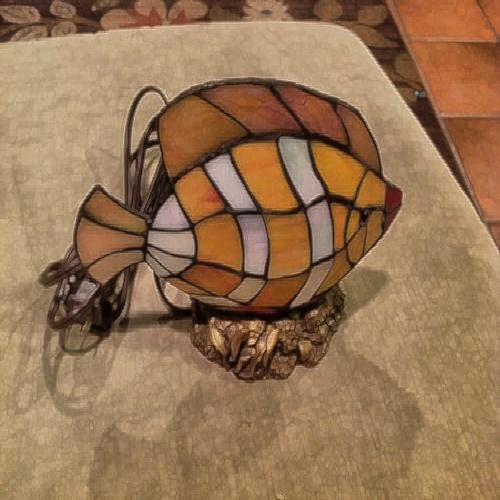lamp: (62, 89, 387, 380)
